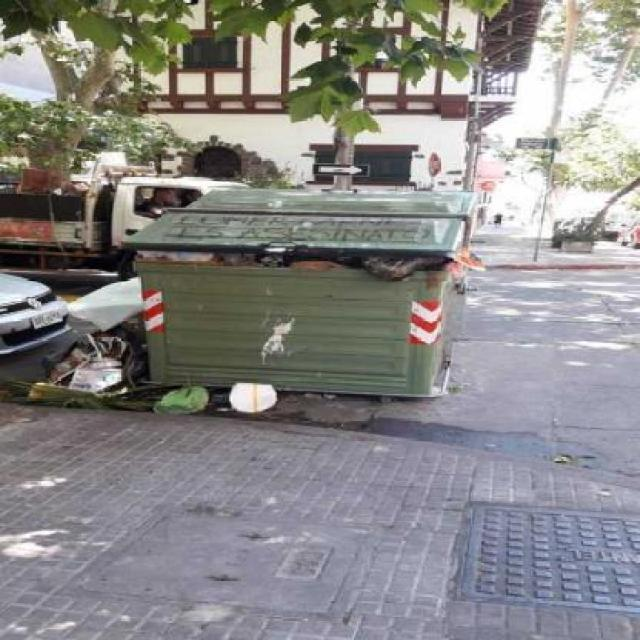garbage: (17, 348, 290, 426), (140, 243, 466, 296), (68, 282, 157, 342)
